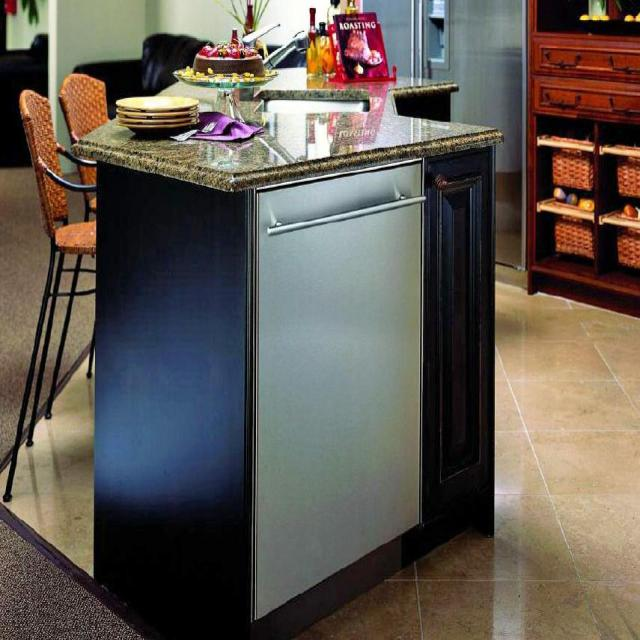dishwasher: (247, 150, 432, 633)
